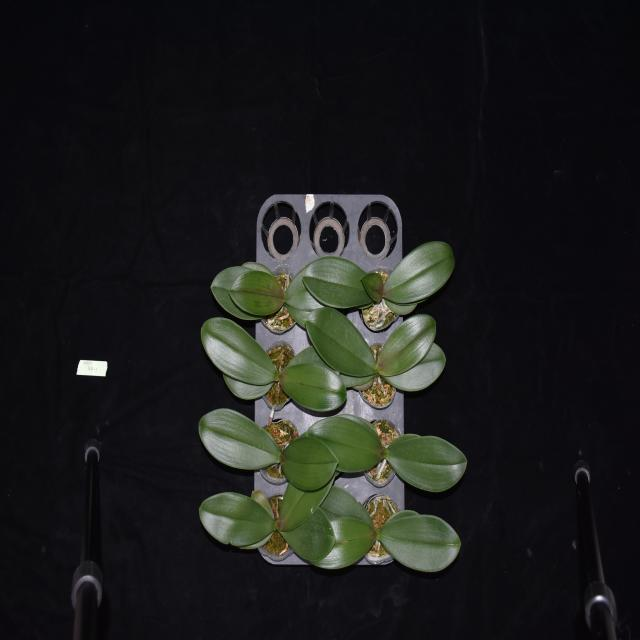leaf: (381, 507, 461, 573), (386, 430, 468, 494), (198, 408, 280, 472), (201, 319, 278, 387), (305, 306, 376, 378), (306, 414, 386, 476), (384, 239, 455, 306), (198, 492, 276, 546), (208, 266, 277, 320), (377, 316, 438, 376), (310, 516, 379, 568), (303, 257, 373, 307), (278, 363, 348, 413), (377, 342, 447, 392), (281, 471, 334, 532), (278, 508, 336, 563), (280, 438, 339, 488), (230, 270, 284, 314), (319, 484, 375, 523), (284, 255, 319, 311), (222, 372, 276, 400), (360, 270, 384, 303), (251, 488, 275, 520), (384, 300, 418, 316)
